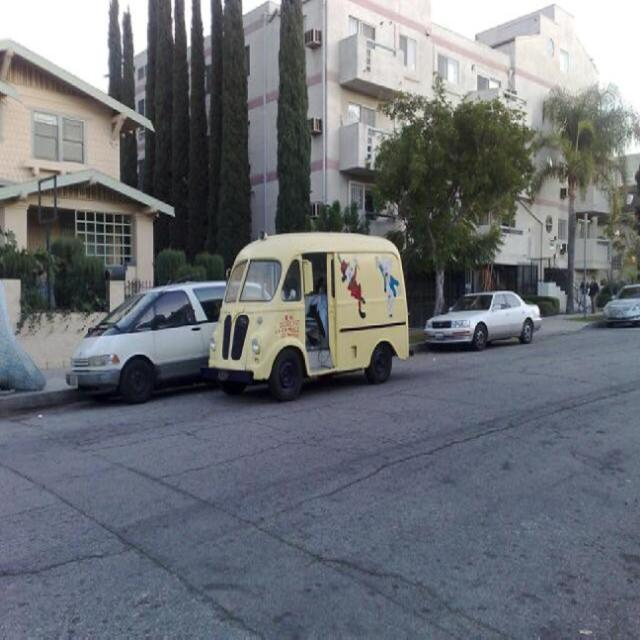MiniBus taxi: (207, 235, 409, 401), (71, 275, 215, 407)
Passenger Car: (424, 291, 545, 351), (600, 279, 640, 329)
